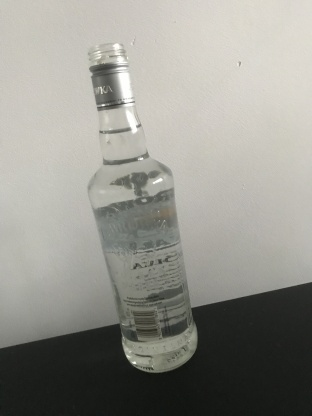nakretka: (85, 40, 136, 112)
